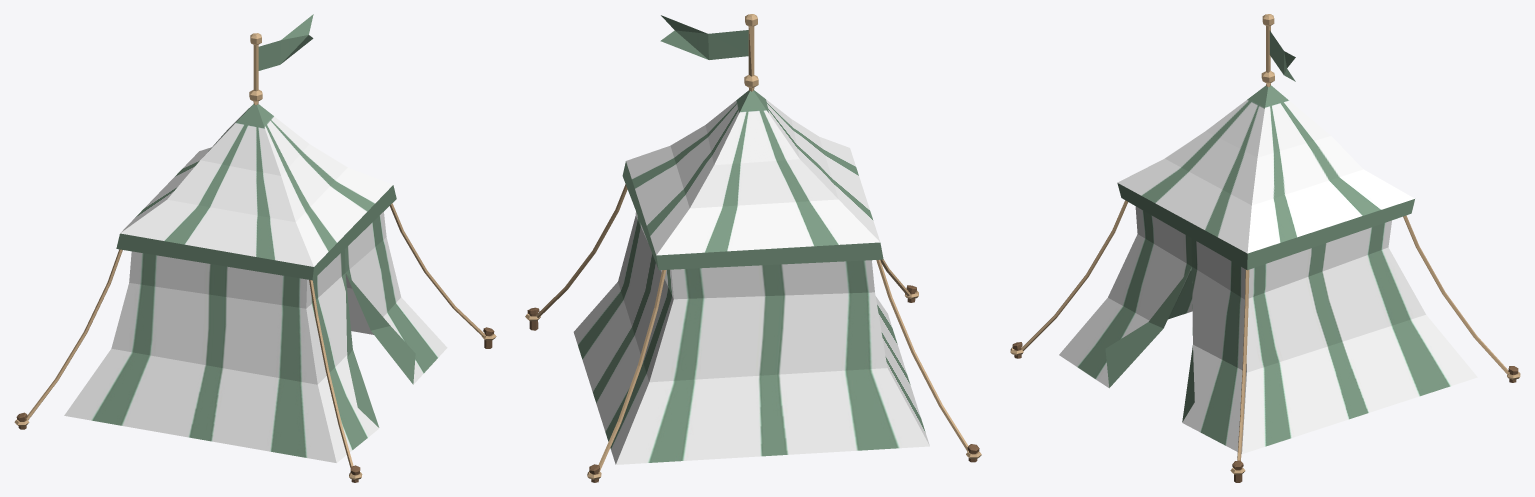
File: tienda verde.fbx
3 renders of one model, left to right at view 1: azimuth 30°, elevation 25°; view 2: azimuth 150°, elevation 25°; view 3: azimuth 270°, elevation 25°, orthographic. The views are drawn at different scales.
Parts seen in each view (by area): view 1: tent_green; view 2: tent_green; view 3: tent_green.
Part boxes in pixels (left/top/right/bottom): tent_green: left=14, top=14, right=496, bottom=482; tent_green: left=525, top=14, right=981, bottom=482; tent_green: left=1010, top=14, right=1520, bottom=482.
Bounding box in the file's own units: 703 × 531 × 683.
Materials: 1 (1 with a texture image).
